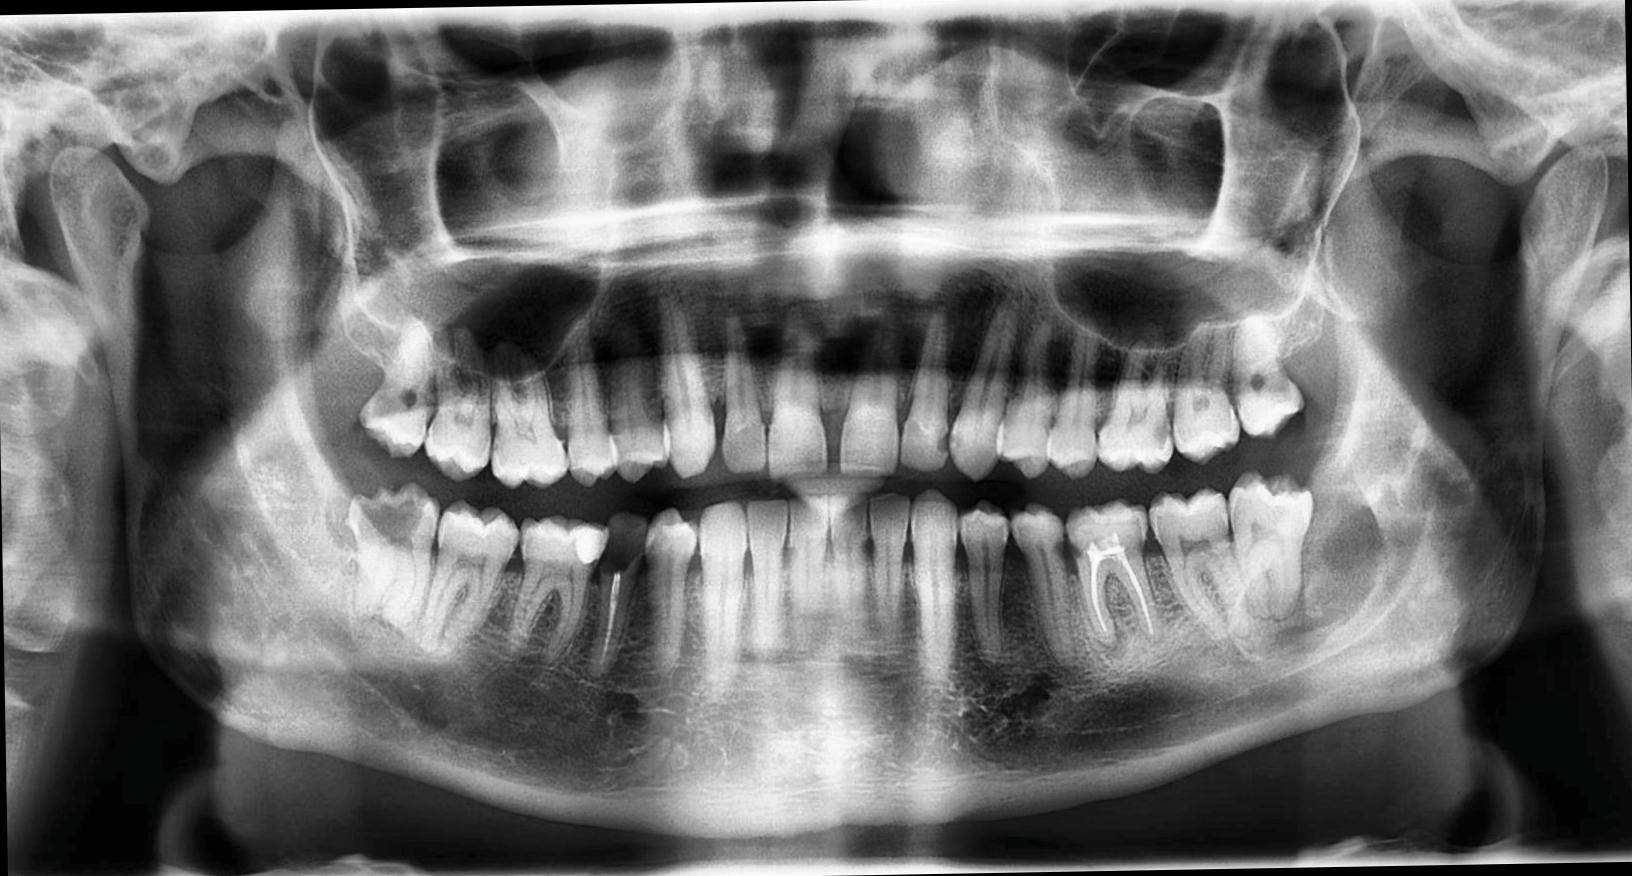okc: (1224, 438, 1392, 665)
